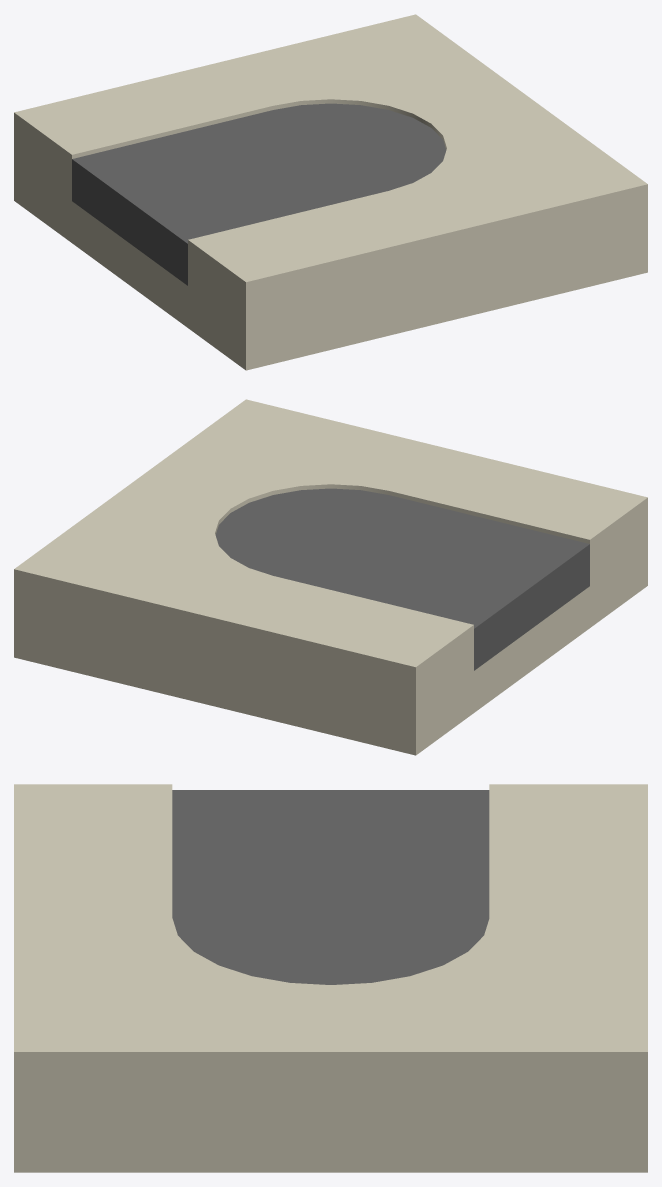
Rendered from tile029.obj.
3 renders of one model, top to bottom at view 1: azimuth 30°, elevation 25°; view 2: azimuth 150°, elevation 25°; view 3: azimuth 270°, elevation 25°, orthographic. The views are drawn at different scales.
Parts seen in each view (by area): view 1: tile029; view 2: tile029; view 3: tile029.
Boxes of the visible parts, x1,y1,x2,y2 form: tile029: [14, 14, 647, 370]; tile029: [14, 399, 647, 755]; tile029: [14, 784, 647, 1172].
Bounding box in the file's own units: 1 × 0.21 × 1.
